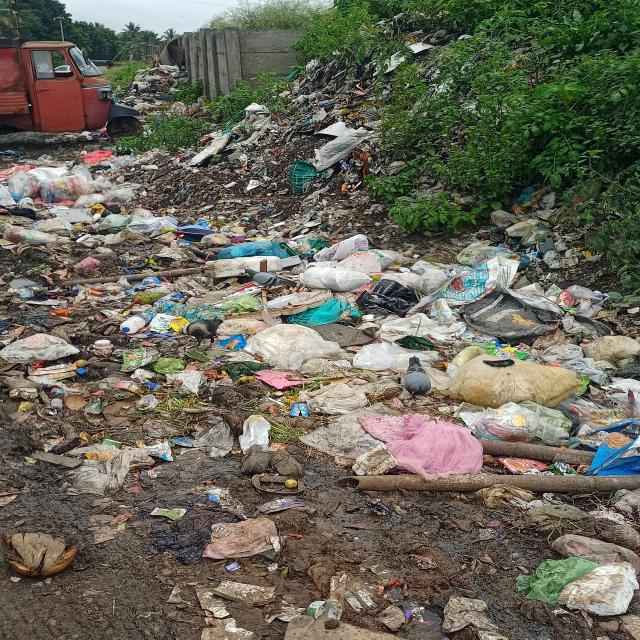garbage: (4, 297, 359, 630), (363, 223, 640, 535), (2, 119, 379, 293), (264, 53, 406, 119), (118, 62, 195, 118)
